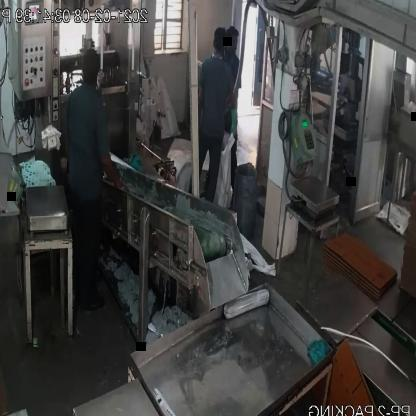no_glove: (91, 145, 130, 202)
